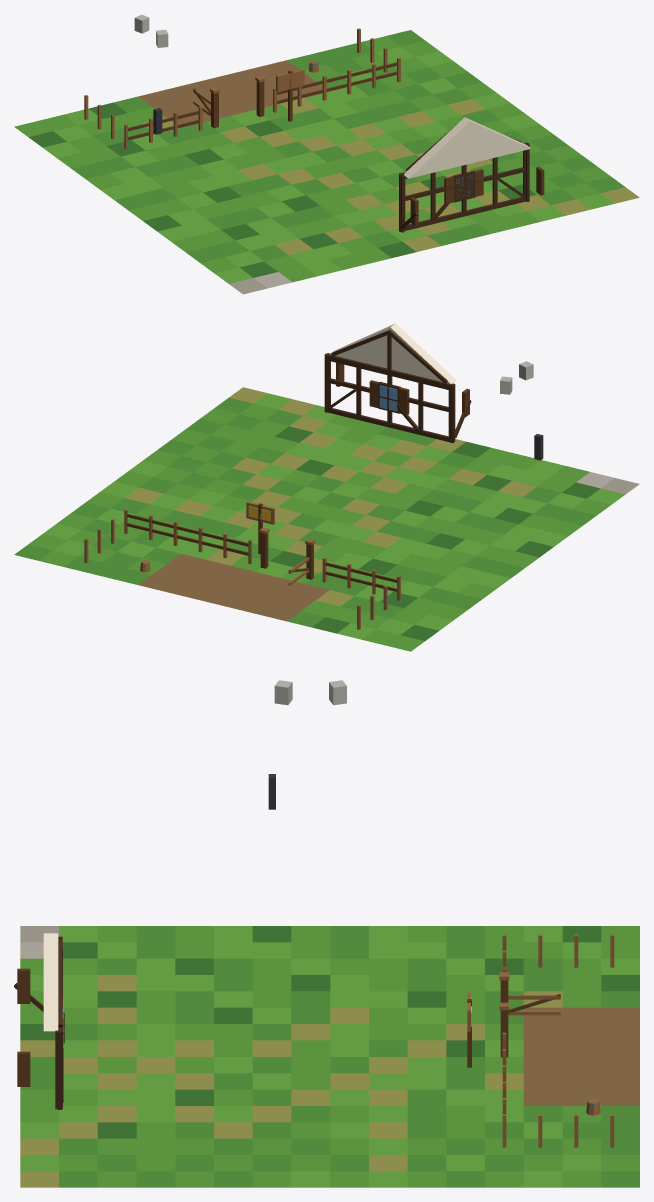
Rendered from chunk_7_4.glb.
3 renders of one model, top to bottom at view 1: azimuth 30°, elevation 25°; view 2: azimuth 150°, elevation 25°; view 3: azimuth 270°, elevation 25°, orthographic. The views are drawn at different scales.
Parts seen in each view (by area): view 1: chunk_7_4; view 2: chunk_7_4; view 3: chunk_7_4.
Part boxes in pixels (x1,y1,x2,y2): chunk_7_4: [14, 14, 639, 294]; chunk_7_4: [14, 323, 639, 651]; chunk_7_4: [14, 680, 639, 1187].
Bounding box in the file's own units: 16 × 7.2 × 16.16.
